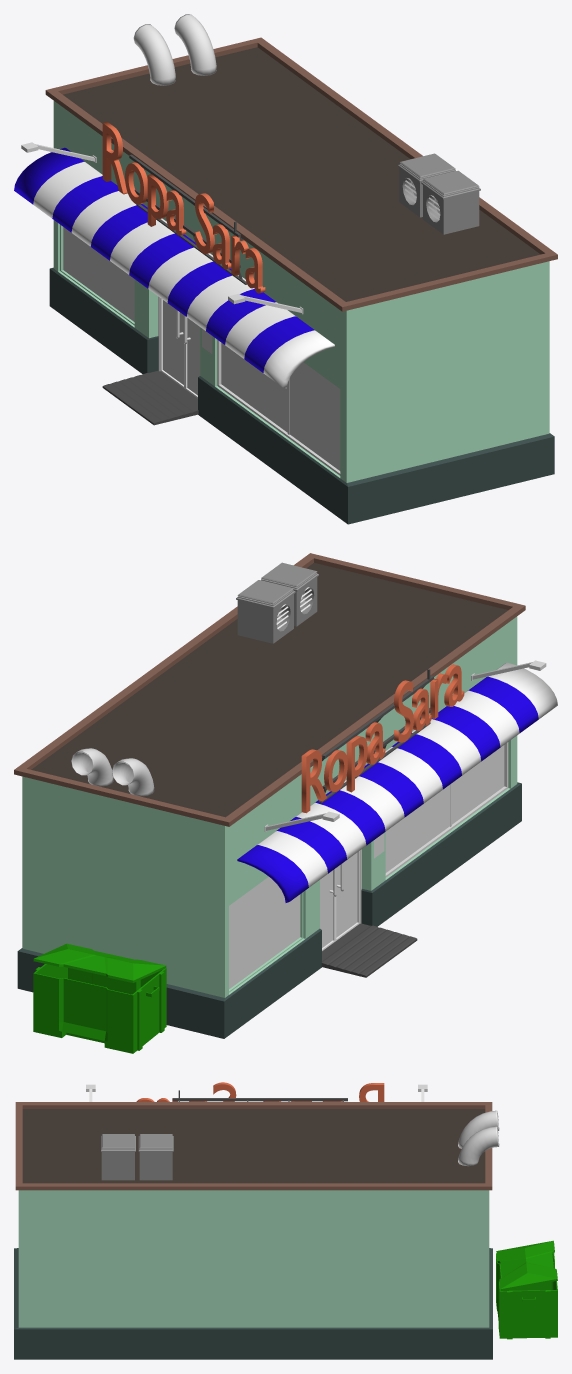
Rendered from Tienda 4.fbx.
3 views of the same model, one above another, from view 1: azimuth 30°, elevation 25°; view 2: azimuth 150°, elevation 25°; view 3: azimuth 270°, elevation 25° (orthographic). The views are drawn at different scales.
Visible parts, largest first — view 1: Cube.019, Circle, Cube.001, Cube.003, Text, Cube.002, Cube.015, Cube.014, Circle.001, Circle.002, Cube.007, Cube.018 (+1 smaller); view 2: Cube.019, Circle, Cube.001, Cube.016, Cube.003, Text, Cube.002, Cube.014, Cube.017, Cube.015, Cube.009, Circle.002 (+3 smaller); view 3: Cube.019, Cube.001, Cube.016, Cube.017, Cube.014, Cube.015, Circle.001, Text, Cube.018, Circle.002.
Boxes of the visible parts, x1,y1,x2,y2 form: Cube.019: (49, 47, 554, 524); Circle: (14, 147, 334, 388); Cube.001: (45, 37, 557, 311); Cube.003: (217, 340, 340, 475); Text: (102, 121, 265, 293); Cube.002: (102, 370, 198, 425); Cube.015: (421, 170, 480, 234); Cube.014: (398, 153, 455, 217); Circle.001: (174, 14, 216, 75); Circle.002: (133, 24, 175, 85); Cube.007: (163, 300, 183, 384); Cube.018: (129, 154, 247, 284); Cube.019: (17, 563, 521, 1038); Circle: (237, 662, 557, 902); Cube.001: (14, 553, 525, 826); Cube.016: (33, 964, 166, 1053); Cube.003: (385, 742, 508, 877); Text: (301, 664, 464, 813); Cube.002: (321, 923, 417, 977); Cube.014: (236, 580, 295, 643); Cube.017: (33, 943, 166, 982); Cube.015: (261, 562, 318, 626); Cube.009: (336, 853, 357, 937); Circle.002: (112, 758, 154, 796); Cube.019: (14, 1109, 492, 1359); Cube.001: (15, 1102, 492, 1190); Cube.016: (496, 1253, 557, 1339); Cube.017: (496, 1240, 557, 1290); Cube.014: (138, 1134, 173, 1180); Cube.015: (101, 1134, 135, 1180); Circle.001: (458, 1126, 499, 1166); Text: (136, 1082, 384, 1101); Cube.018: (172, 1090, 347, 1101); Circle.002: (458, 1110, 499, 1148).
Size of the model in its own units: 1555 by 1358 by 3258.
